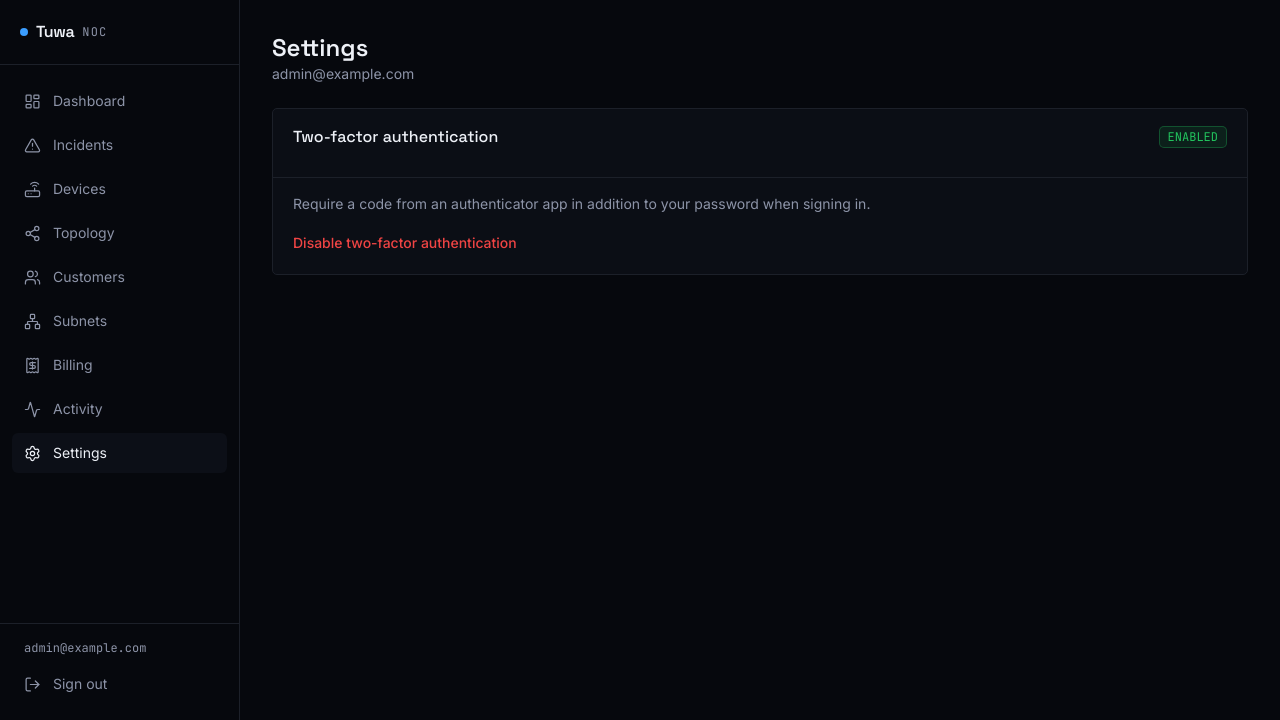
it: Settings › disables 2FA with the correct password
Click the button "Disable two-factor authentication". click: (405, 243)
box: x1=293 y1=233 x2=517 y2=253
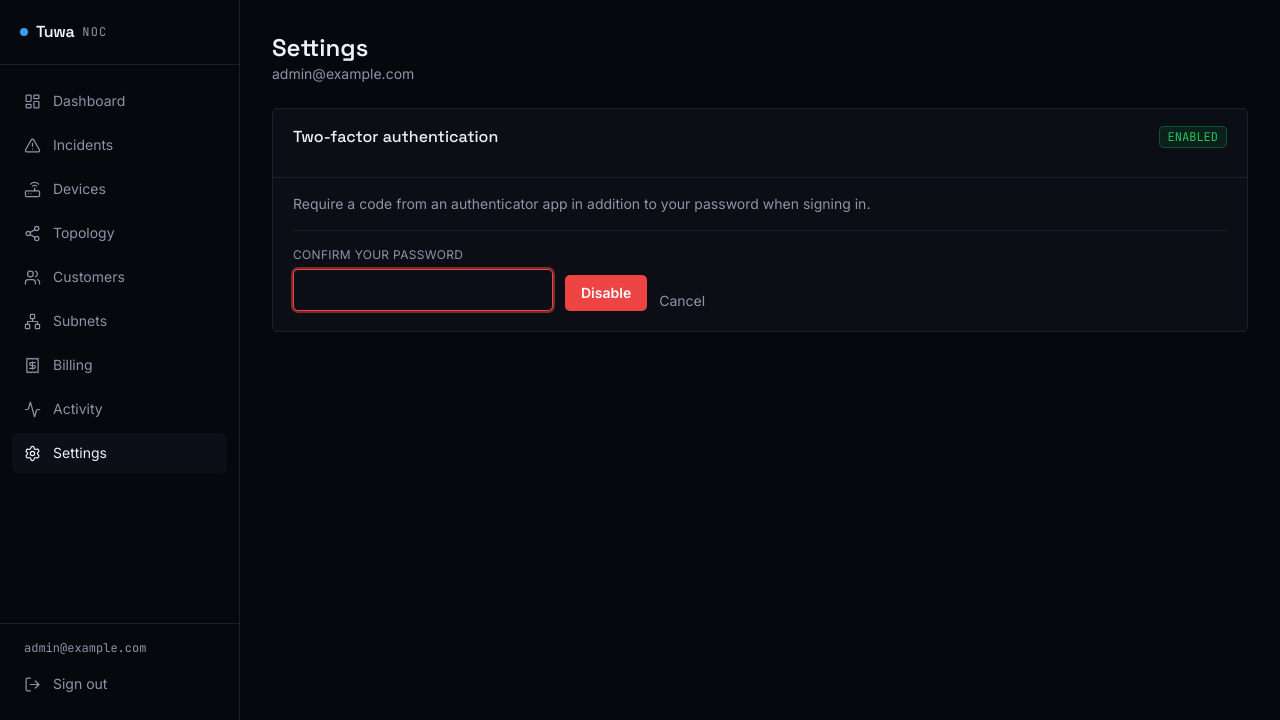
Type "real-password" into the password field labelled "Confirm your password". click: (423, 290)
box: x1=293 y1=269 x2=553 y2=311
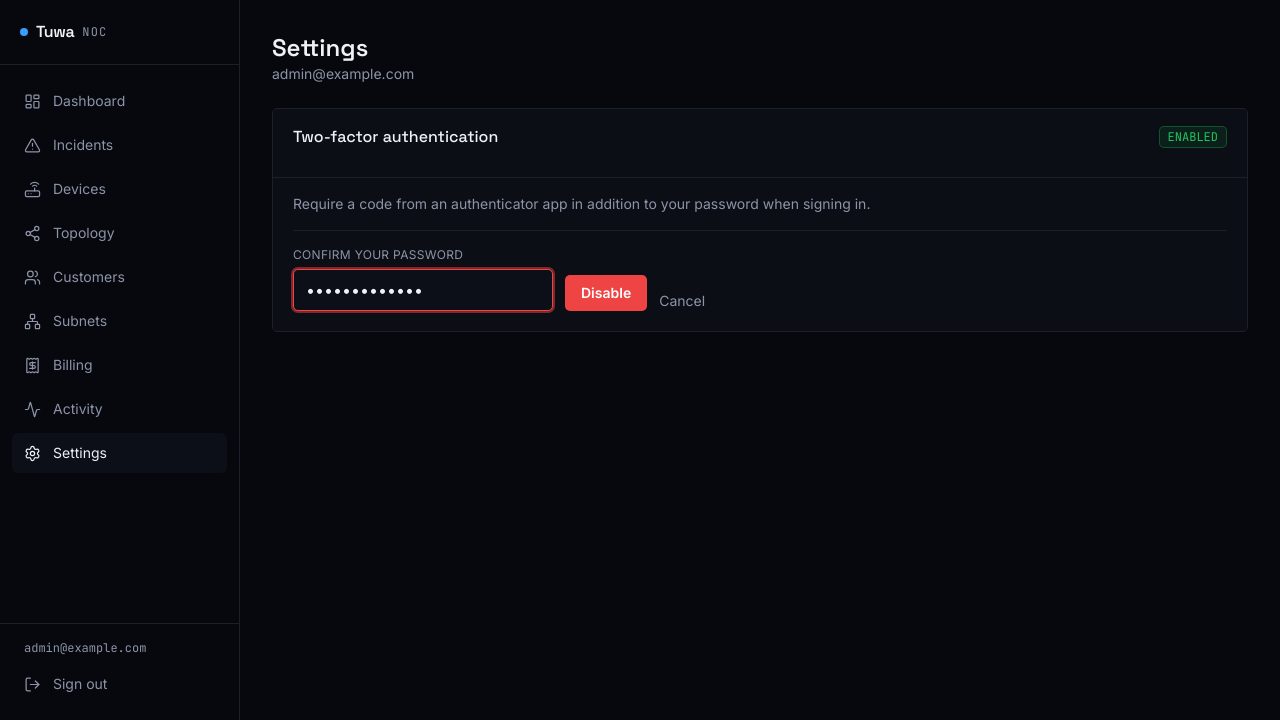
Click the button "Disable". click: (606, 293)
box: x1=565 y1=275 x2=647 y2=311
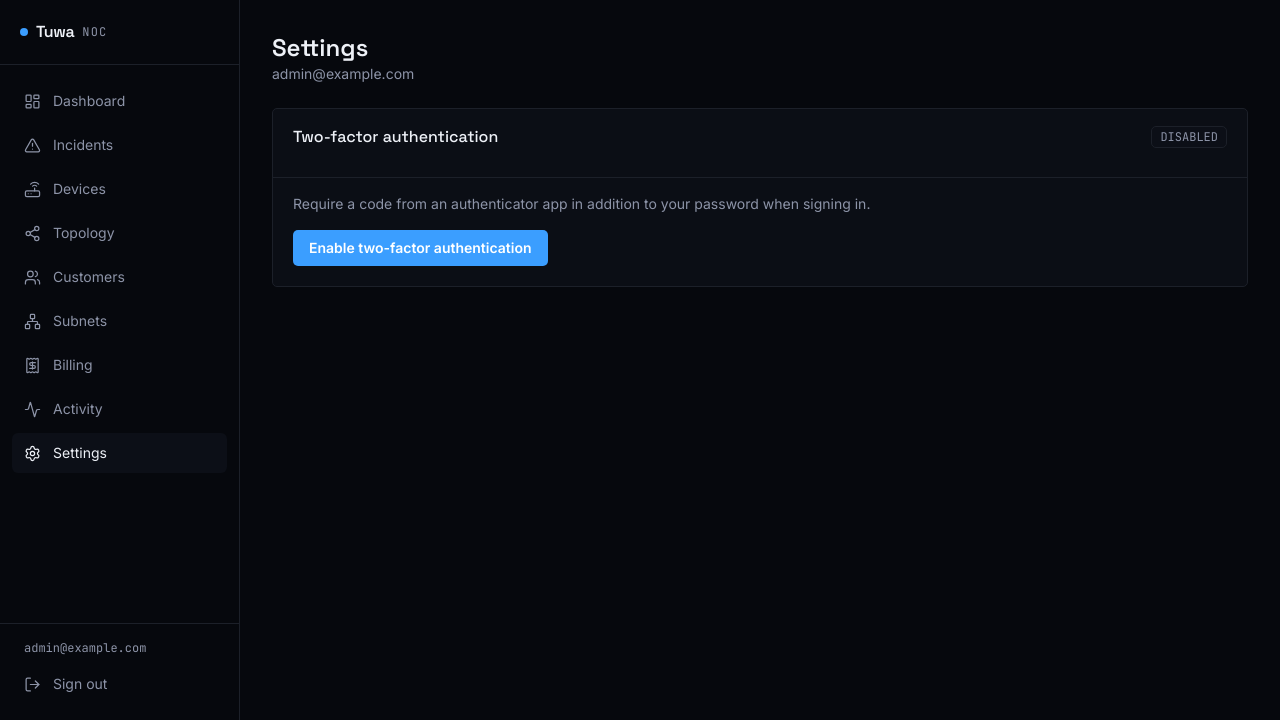
Expected: the button "Enable two-factor authentication" is shown, x1=293 y1=230 x2=548 y2=266
